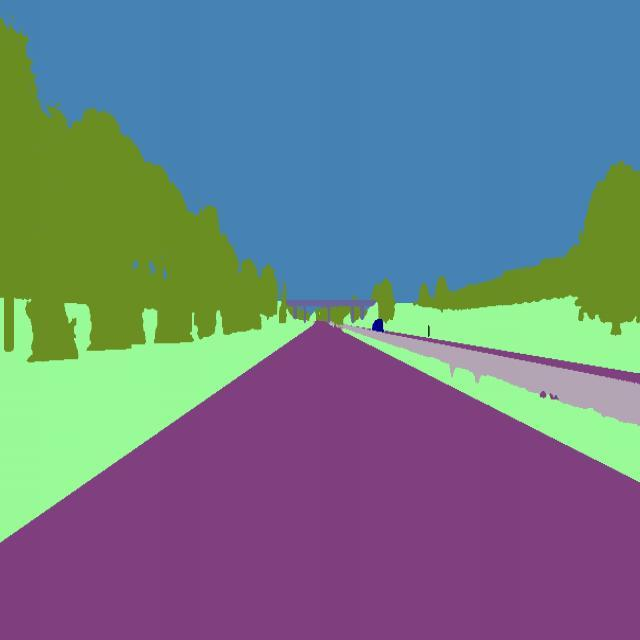safe: (369, 316, 386, 336)
